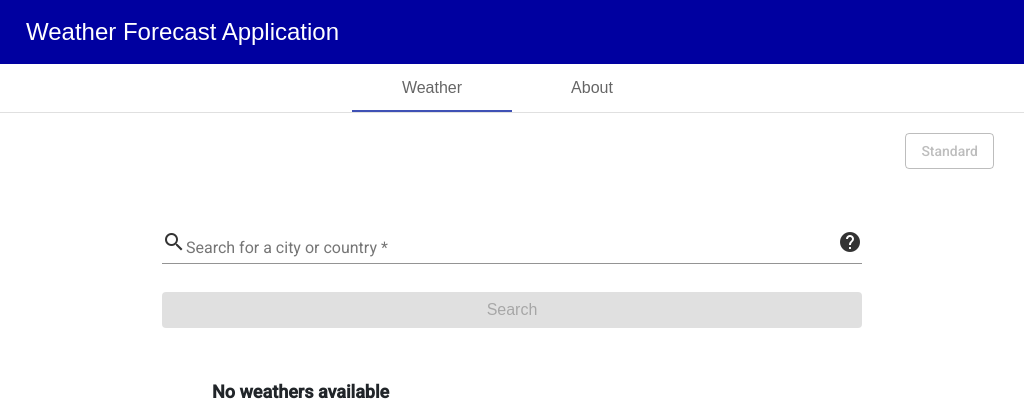
Scenario: Test weather application › switch unit button will be disabled when user does not click search button, and enabled when user clicks search button
The image size is (1024, 419).
Check: the button with test id "switchUnit" is disabled, box x1=905 y1=133 x2=994 y2=169
Check: the button with test id "search-button" is disabled, box x1=162 y1=292 x2=862 y2=328
Step 1. Type "London,GB" into the field with test id "location-field" → (512, 248), box x1=186 y1=239 x2=838 y2=257
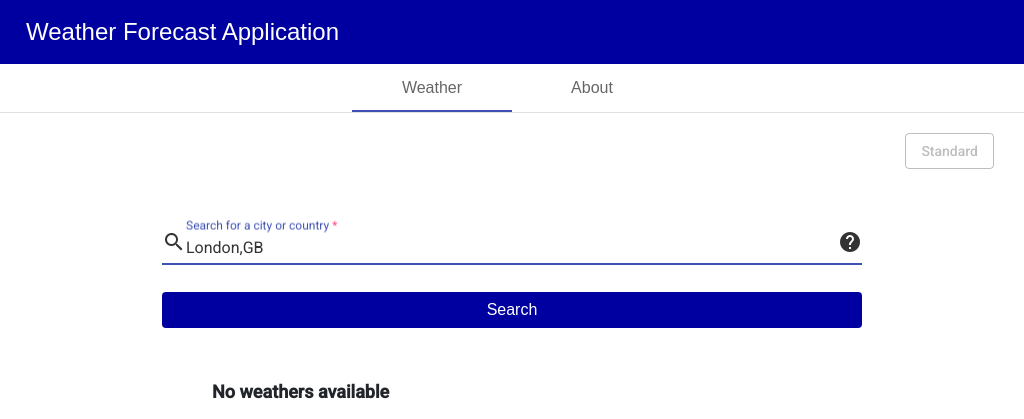
Check: the button with test id "search-button" is enabled
Step 2. Click the button with test id "search-button" → (512, 310), box x1=162 y1=292 x2=862 y2=328
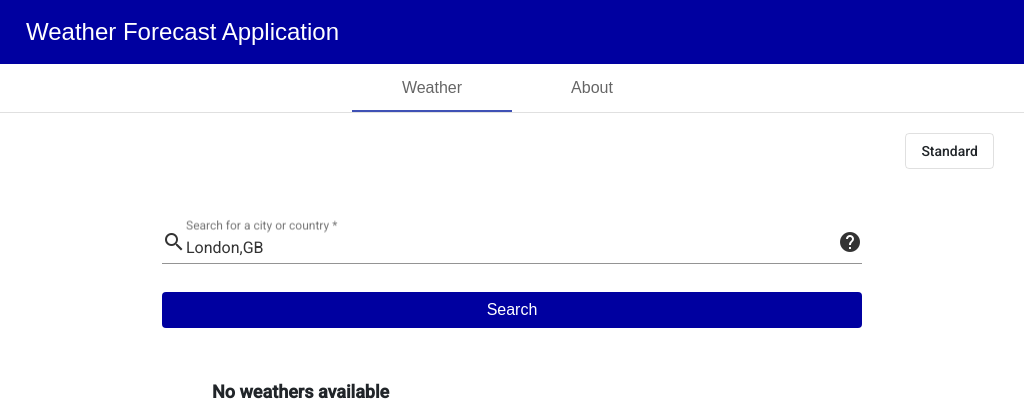
Check: the button with test id "switchUnit" is enabled, box x1=905 y1=133 x2=994 y2=169
